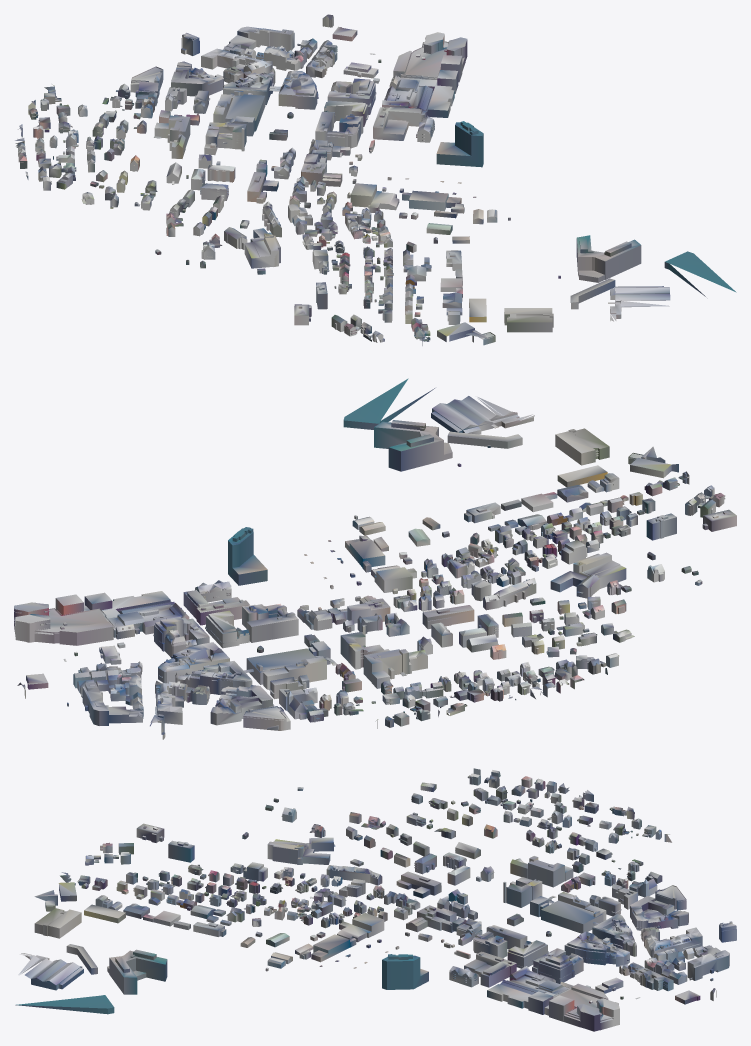
The model's file is city_colored.glb.
3 views of the same model, one above another, from view 1: azimuth 30°, elevation 25°; view 2: azimuth 150°, elevation 25°; view 3: azimuth 270°, elevation 25° (orthographic). The views are drawn at different scales.
Size of the model in its own units: 677 by 61.27 by 919.
